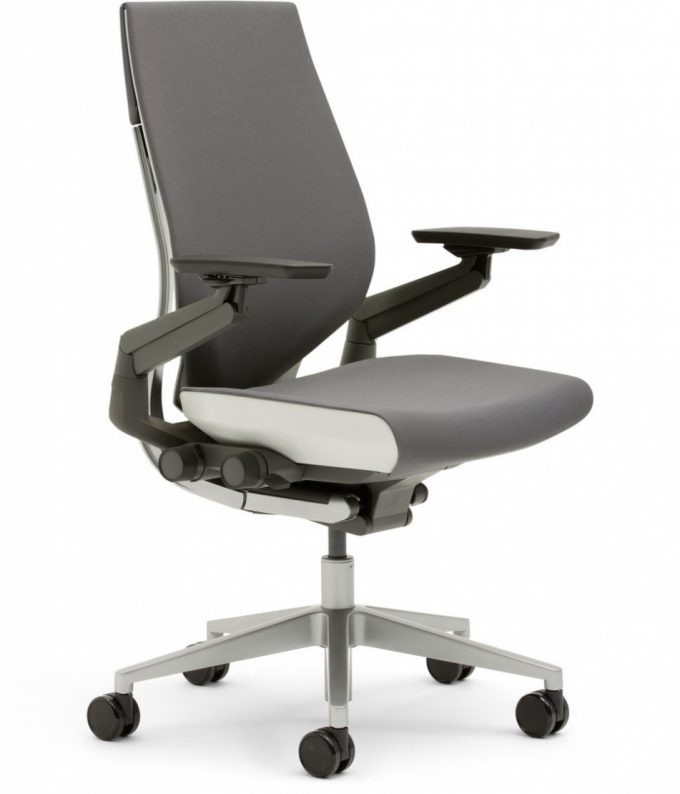chairs: (83, 1, 597, 786)
